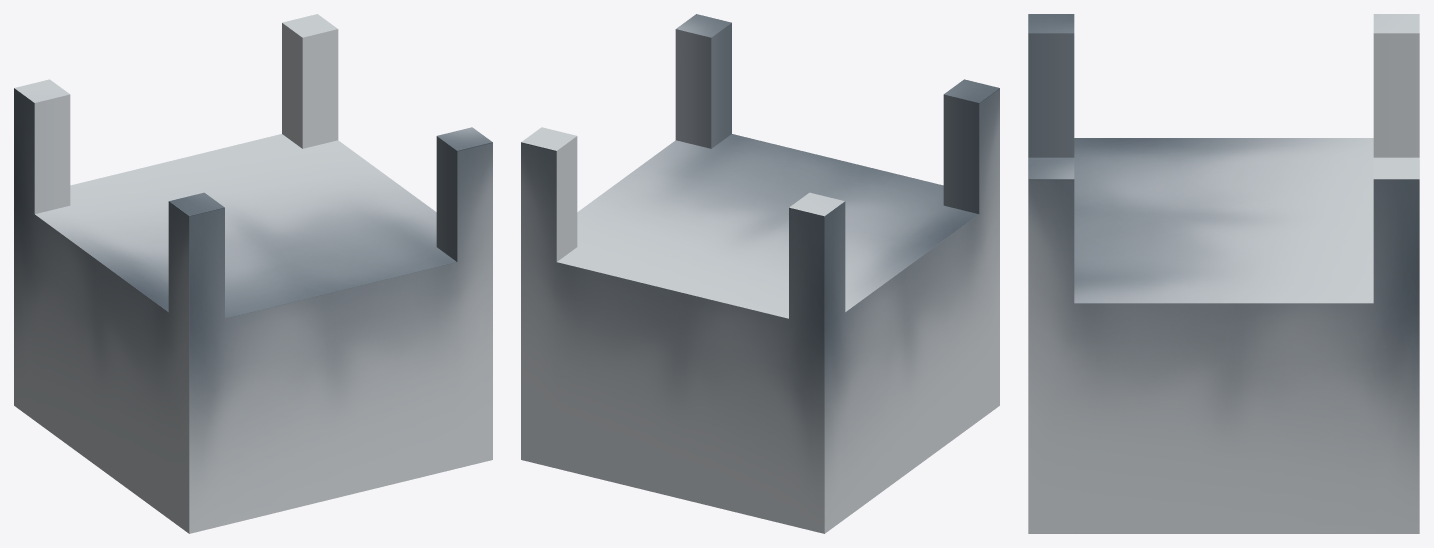
The model's file is Wall Variant A(Mulitway).fbx.
3 renders of one model, left to right at view 1: azimuth 30°, elevation 25°; view 2: azimuth 150°, elevation 25°; view 3: azimuth 270°, elevation 25°, orthographic. The views are drawn at different scales.
Visible parts, largest first — view 1: Plane014; view 2: Plane014; view 3: Plane014.
Part boxes in pixels (x1=…): Plane014: x1=14, y1=14, x2=492, y2=533; Plane014: x1=521, y1=14, x2=999, y2=533; Plane014: x1=1028, y1=14, x2=1419, y2=533.
Size of the model in its own units: 39.37 by 39.37 by 39.37.
Materials: 1 (1 with a texture image).
